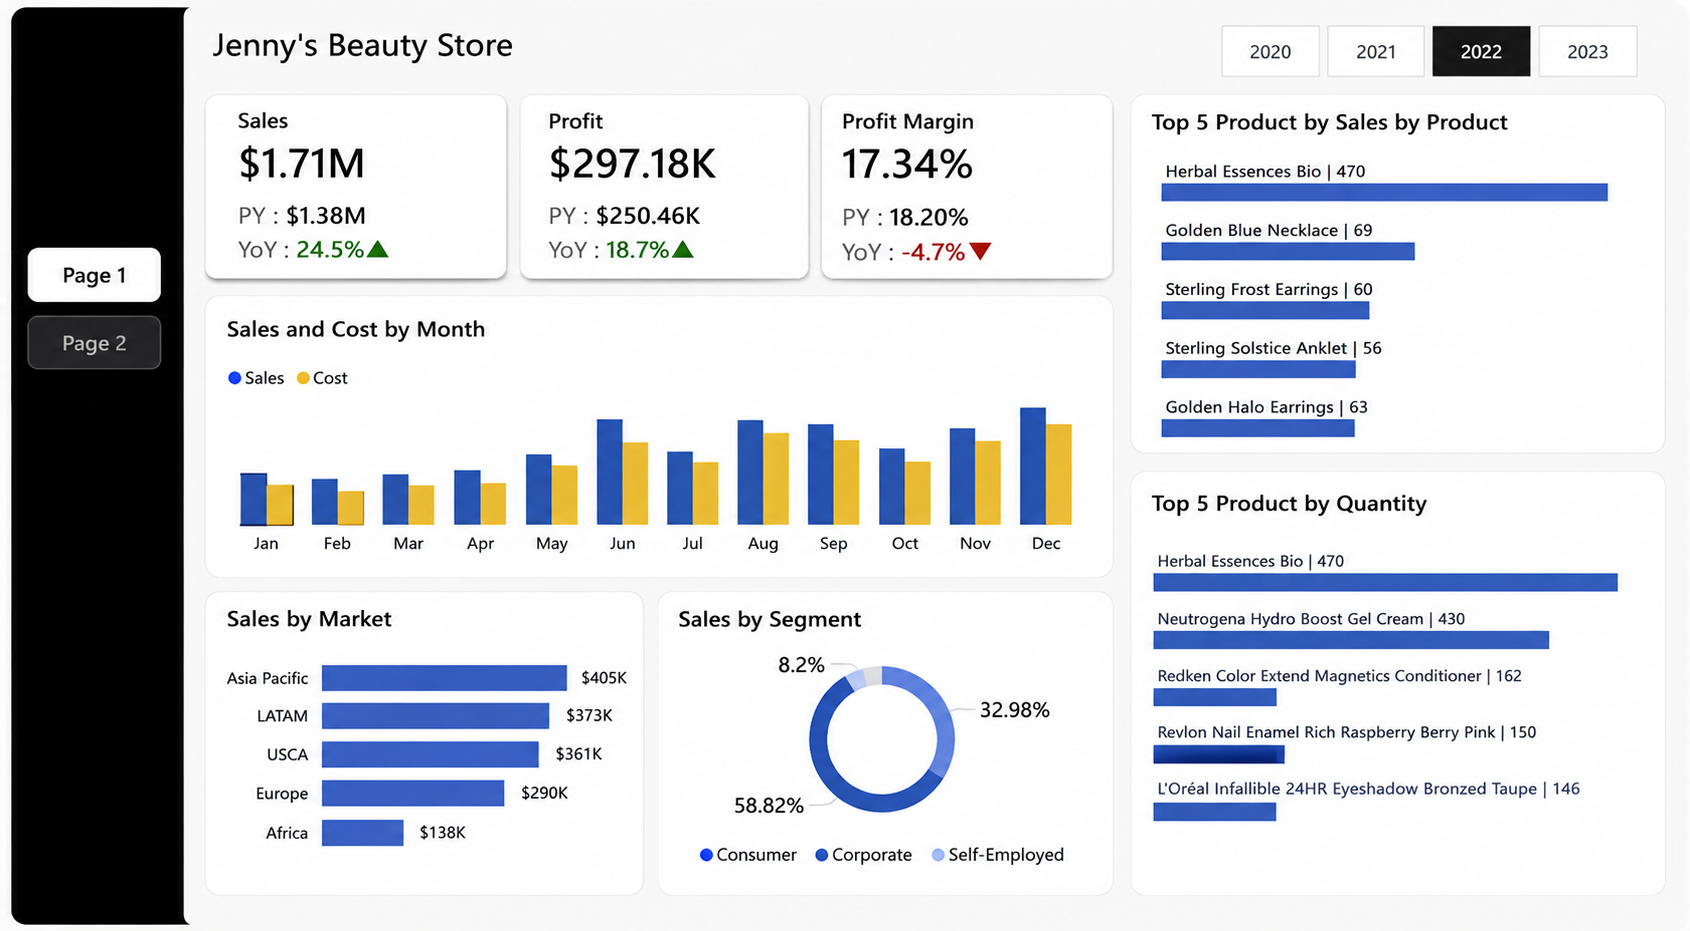

The page's visual inventory and layout, read from the dashboard file:
{"tool":"powerbi","page":{"name":"Page 1","canvas":[1280,720],"ordinal":0},"visuals":[{"type":"cardVisual","fields":{"Data":["MeasuresTable.Sales","MeasuresTable.Profit","MeasuresTable.Profit Margin"]},"box":[177.5,86.6,717.1,142.8],"z":0},{"type":"slicer","fields":{"Values":["Date Table.Year"]},"box":[927.7,30.3,320.3,56.3],"z":1000},{"type":"clusteredColumnChart","fields":{"Y":["MeasuresTable.Sales","MeasuresTable.Cost"],"Category":["Date Table.Month"]},"box":[187.6,248.2,688.2,207.8],"z":2000},{"type":"clusteredBarChart","title":"Top 5 Product by Sales by Product","fields":{"Category":["Data.Product"],"Y":["MeasuresTable.Base Value","MeasuresTable.Sales"]},"box":[908.9,96.7,320.3,255.4],"z":3000},{"type":"clusteredBarChart","title":"Top 5 Product by Quantity","fields":{"Category":["Data.Product"],"Y":["MeasuresTable.Base Value","MeasuresTable.Quantity"]},"box":[908.8,396.8,320,277.3],"z":4000},{"type":"clusteredBarChart","fields":{"Y":["MeasuresTable.Sales"],"Category":["Data.Market"]},"box":[187.6,493.4,320.3,180.3],"z":5000},{"type":"donutChart","fields":{"Series":["Data.Segment"],"Y":["MeasuresTable.Sales"]},"box":[536.7,493.4,339,196.2],"z":6000},{"type":"pageNavigator","box":[24.5,209.2,112.5,95.2],"z":7000},{"type":"textbox","box":[177.5,30.3,314.5,56.3],"z":8000}]}

Visuals, with their boxes on the page's 1280x720 design canvas (x1, y1, x2, y2). These are canvas units, not pixel positions in the 1690x931 screenshot, which may show the page scaled, cropped or inside an application window:
cardVisual - MeasuresTable.Sales x MeasuresTable.Profit: [178,87,895,229]
slicer - Date Table.Year: [928,30,1248,87]
clusteredColumnChart - MeasuresTable.Sales x MeasuresTable.Cost: [188,248,876,456]
"Top 5 Product by Sales by Product" clusteredBarChart: [909,97,1229,352]
"Top 5 Product by Quantity" clusteredBarChart: [909,397,1229,674]
clusteredBarChart - MeasuresTable.Sales x Data.Market: [188,493,508,674]
donutChart - Data.Segment x MeasuresTable.Sales: [537,493,876,690]
pageNavigator: [24,209,137,304]
textbox: [178,30,492,87]
